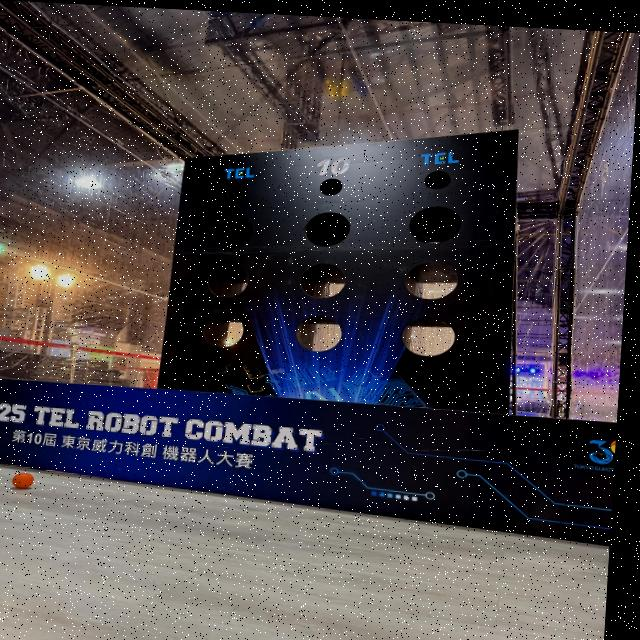hole: (400, 316, 457, 358), (403, 259, 459, 301), (407, 205, 463, 246), (294, 314, 343, 353), (299, 262, 348, 300), (304, 211, 351, 248), (201, 311, 245, 349), (211, 215, 255, 252), (207, 263, 250, 299), (424, 170, 451, 191), (319, 178, 343, 197), (228, 184, 248, 201)
